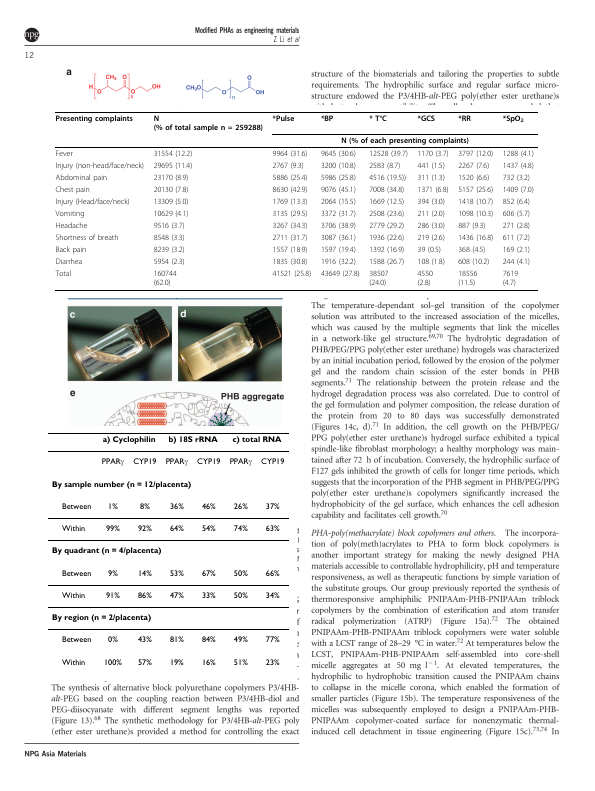borderless: (54, 110, 538, 290), (46, 431, 290, 675)
cell: (153, 114, 264, 132), (50, 480, 192, 490), (340, 136, 470, 146), (50, 547, 162, 556), (50, 614, 152, 623), (55, 161, 145, 171), (55, 197, 131, 207), (55, 114, 134, 123), (55, 233, 119, 243), (55, 173, 108, 183), (100, 447, 124, 469), (164, 447, 188, 469), (228, 447, 252, 469), (101, 436, 156, 445), (167, 436, 218, 445), (231, 436, 282, 445), (153, 269, 177, 287), (368, 149, 409, 159), (153, 149, 193, 159), (153, 161, 193, 171), (368, 173, 407, 183), (368, 269, 389, 287), (457, 269, 478, 287), (320, 149, 357, 159), (457, 149, 494, 159), (320, 161, 357, 171), (320, 173, 357, 183), (320, 185, 357, 195), (368, 185, 405, 195), (457, 185, 494, 195), (320, 197, 357, 207), (368, 197, 405, 207), (457, 197, 494, 207), (320, 209, 357, 219), (368, 209, 405, 219), (457, 209, 494, 219), (320, 221, 357, 231), (368, 221, 405, 231), (320, 233, 357, 243), (368, 233, 405, 243), (457, 233, 494, 243), (272, 149, 308, 159), (153, 173, 189, 183), (272, 173, 308, 183), (55, 185, 91, 195), (153, 185, 189, 195), (272, 185, 308, 195), (153, 197, 189, 207), (272, 197, 308, 207), (153, 209, 189, 219), (272, 209, 308, 219), (272, 221, 308, 231), (272, 233, 308, 243), (272, 269, 312, 278), (320, 269, 360, 278), (320, 245, 357, 254), (368, 245, 405, 254), (320, 257, 357, 266), (368, 257, 405, 266), (416, 149, 449, 159), (502, 149, 535, 159), (272, 161, 305, 171), (368, 161, 401, 171), (457, 161, 490, 171), (502, 161, 535, 171), (457, 173, 490, 183), (416, 185, 449, 195), (502, 185, 535, 195), (55, 221, 88, 231), (153, 221, 186, 231), (153, 233, 186, 243), (272, 245, 308, 254), (272, 257, 308, 266), (416, 269, 434, 287), (502, 269, 519, 287), (416, 161, 446, 171), (416, 173, 446, 183), (416, 197, 446, 207), (55, 209, 85, 219), (416, 209, 446, 219), (416, 221, 446, 231), (416, 233, 446, 243), (153, 245, 186, 254), (153, 257, 186, 266), (457, 257, 490, 266), (502, 173, 531, 183), (502, 197, 531, 207), (502, 209, 531, 219), (457, 221, 486, 231), (502, 221, 531, 231), (502, 233, 531, 243), (55, 245, 87, 254), (416, 257, 446, 266), (457, 245, 486, 254), (502, 245, 531, 254), (502, 257, 531, 266), (60, 502, 92, 510), (60, 569, 92, 577), (60, 636, 92, 644), (55, 257, 83, 266), (416, 245, 442, 254), (502, 114, 525, 124), (60, 591, 86, 599), (60, 658, 86, 666), (272, 114, 295, 123), (132, 458, 157, 466), (196, 458, 221, 466), (260, 458, 285, 466), (55, 149, 74, 159), (60, 525, 86, 532), (368, 114, 388, 123), (416, 114, 436, 123), (102, 658, 122, 666), (55, 269, 72, 278), (457, 114, 472, 123), (168, 502, 184, 510), (200, 502, 216, 510), (232, 502, 248, 510), (264, 502, 280, 510), (136, 569, 152, 577), (168, 569, 184, 577), (200, 569, 216, 577), (232, 569, 248, 577), (264, 569, 280, 577), (104, 591, 120, 599), (136, 591, 152, 599), (168, 591, 184, 599), (200, 591, 216, 599), (232, 591, 248, 599), (264, 591, 280, 599), (136, 636, 152, 644), (168, 636, 184, 644), (200, 636, 216, 644), (232, 636, 248, 644), (264, 636, 280, 644), (136, 658, 152, 666), (168, 658, 184, 666), (200, 658, 216, 666), (232, 658, 248, 666), (264, 658, 280, 666), (320, 114, 334, 123), (104, 525, 120, 532), (136, 525, 152, 532), (168, 525, 184, 532), (200, 525, 216, 532), (232, 525, 248, 532), (264, 525, 280, 532), (107, 502, 118, 510), (139, 502, 150, 510), (107, 569, 118, 577), (107, 636, 118, 644)
